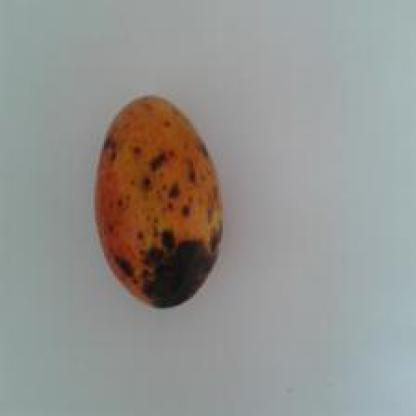mango_rotten: (91, 91, 225, 314)
